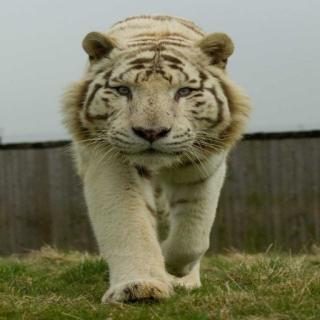Tiger: (55, 0, 267, 320)
